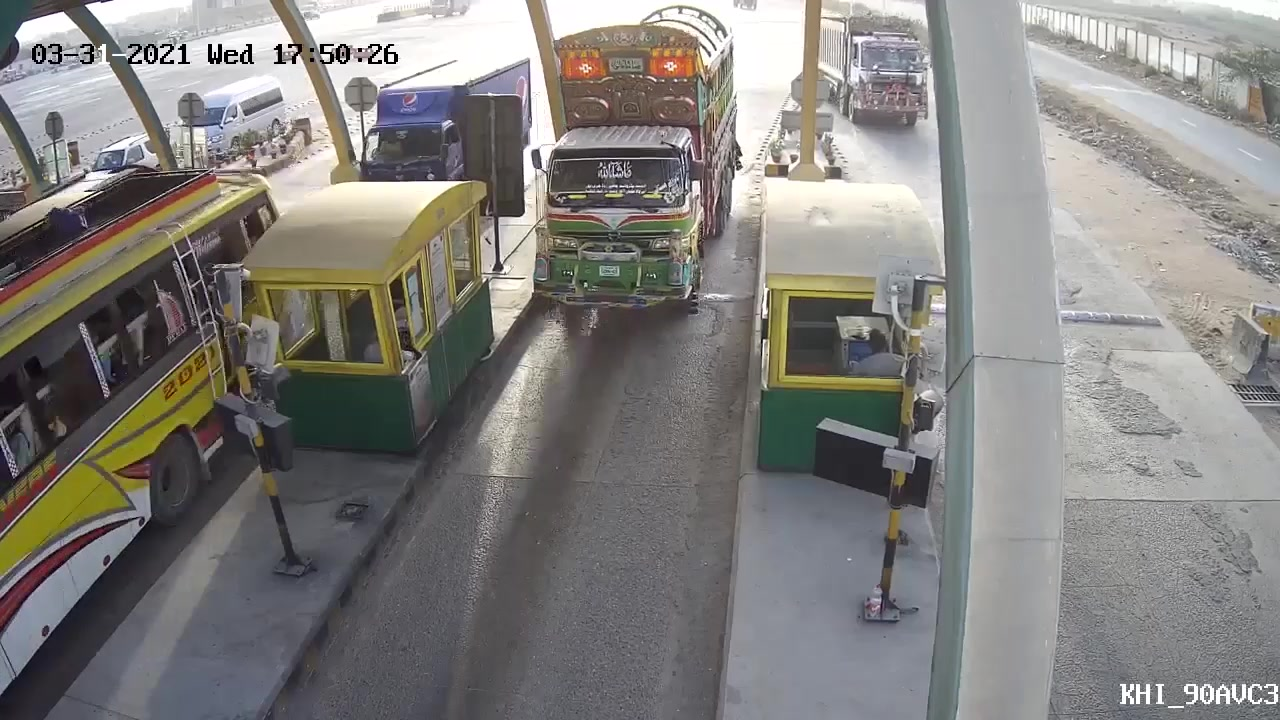F5: (527, 3, 745, 325)
